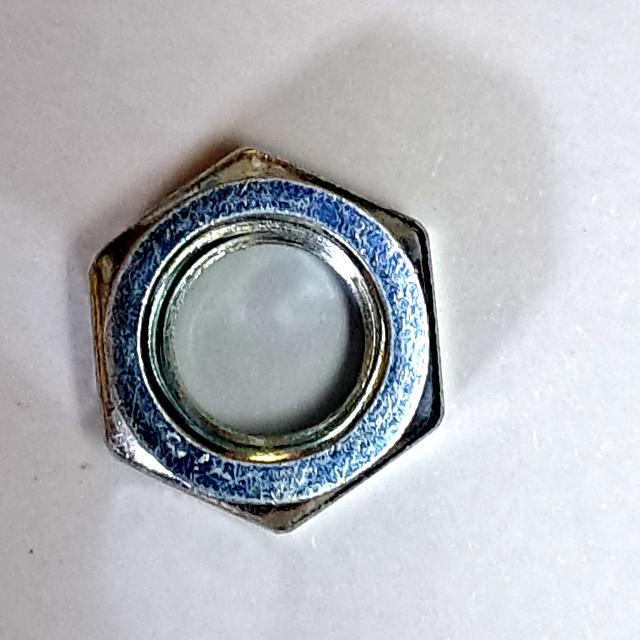Excellent: (70, 130, 464, 543)
